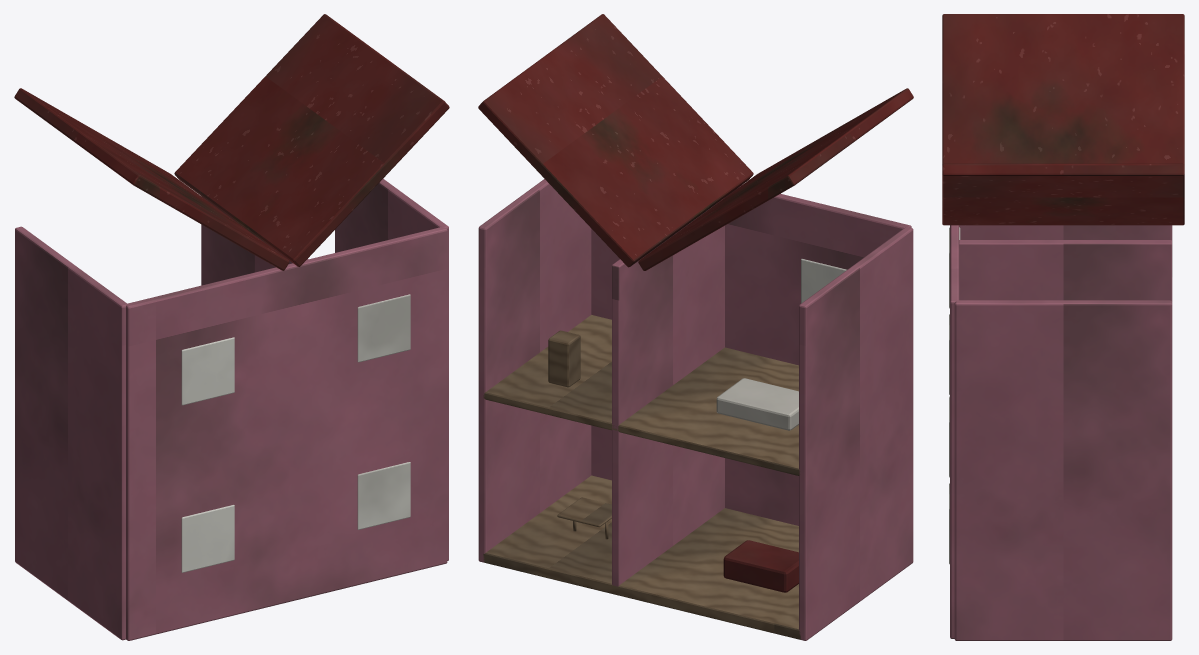
The model's file is T14_dollhouse_open.glb.
3 views of the same model, side by side, from view 1: azimuth 30°, elevation 25°; view 2: azimuth 150°, elevation 25°; view 3: azimuth 270°, elevation 25° (orthographic).
Parts seen in each view (by area): view 1: T14_dollhouse_open; view 2: T14_dollhouse_open; view 3: T14_dollhouse_open.
Boxes of the visible parts, left/top/right/bottom form: T14_dollhouse_open: left=14, top=14, right=449, bottom=640; T14_dollhouse_open: left=478, top=14, right=913, bottom=640; T14_dollhouse_open: left=942, top=14, right=1184, bottom=640.
Bounding box in the file's own units: 0.5875 × 0.8 × 0.3726.
Materials: 6 (6 with a texture image).
